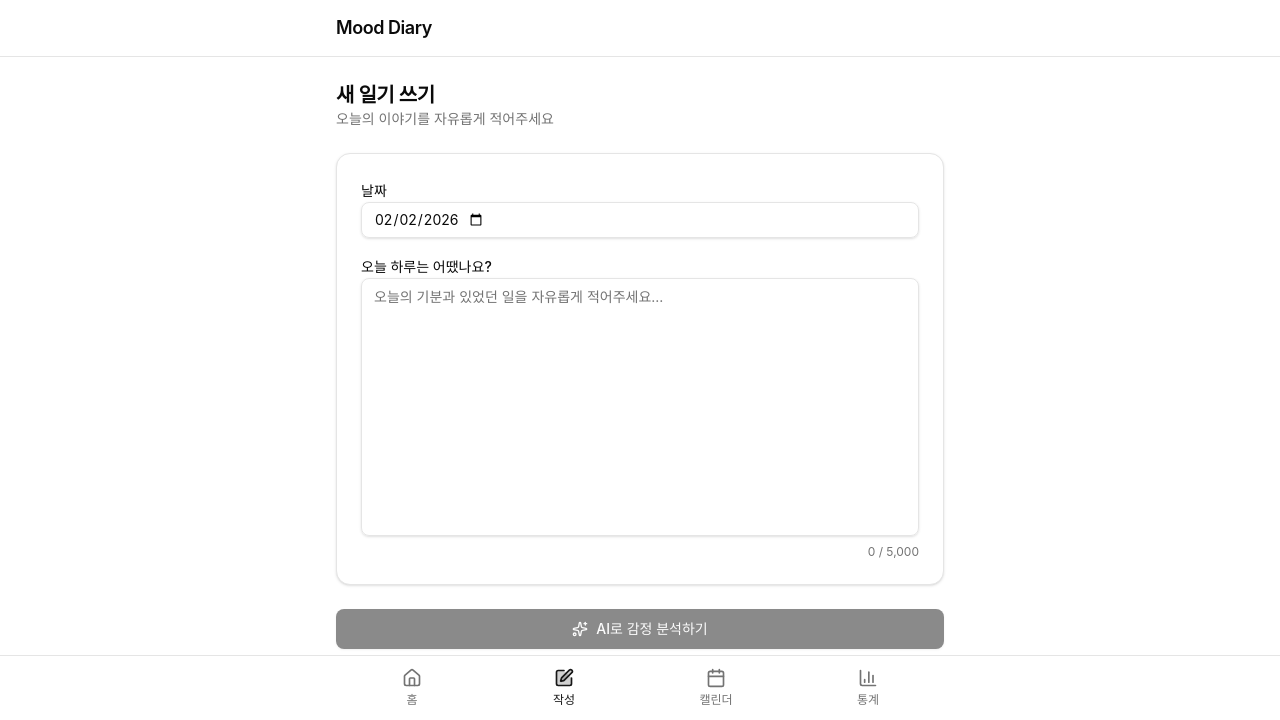
Test: WritePage (TC-001, TC-003) › TC-003: AI 감정 분류 › TC-003-2: 분류 결과 표시 › 분류 실패 시 neutral로 기본 설정된다
Type "테스트 내용" into the text box.
click(640, 407); type("테스트 내용")  # box [361,278,919,536]
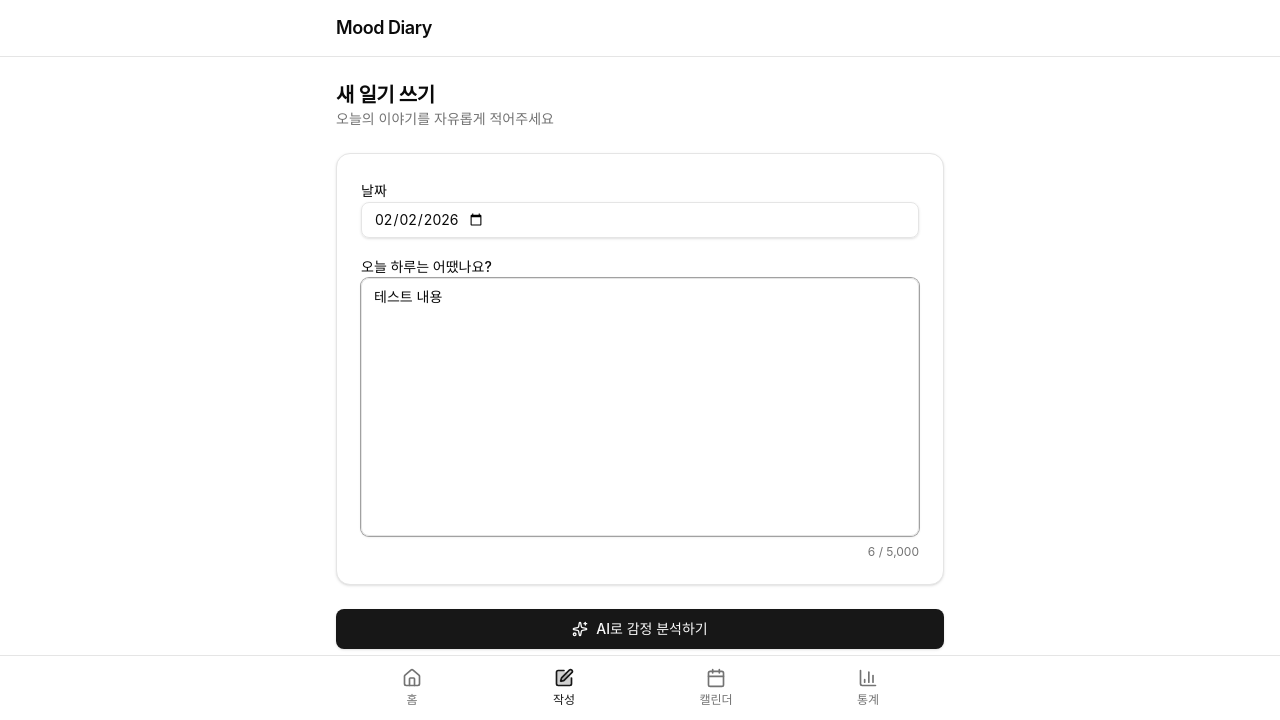
Click the button "AI로 감정 분석하기".
click(640, 629)  # box [336,609,944,649]
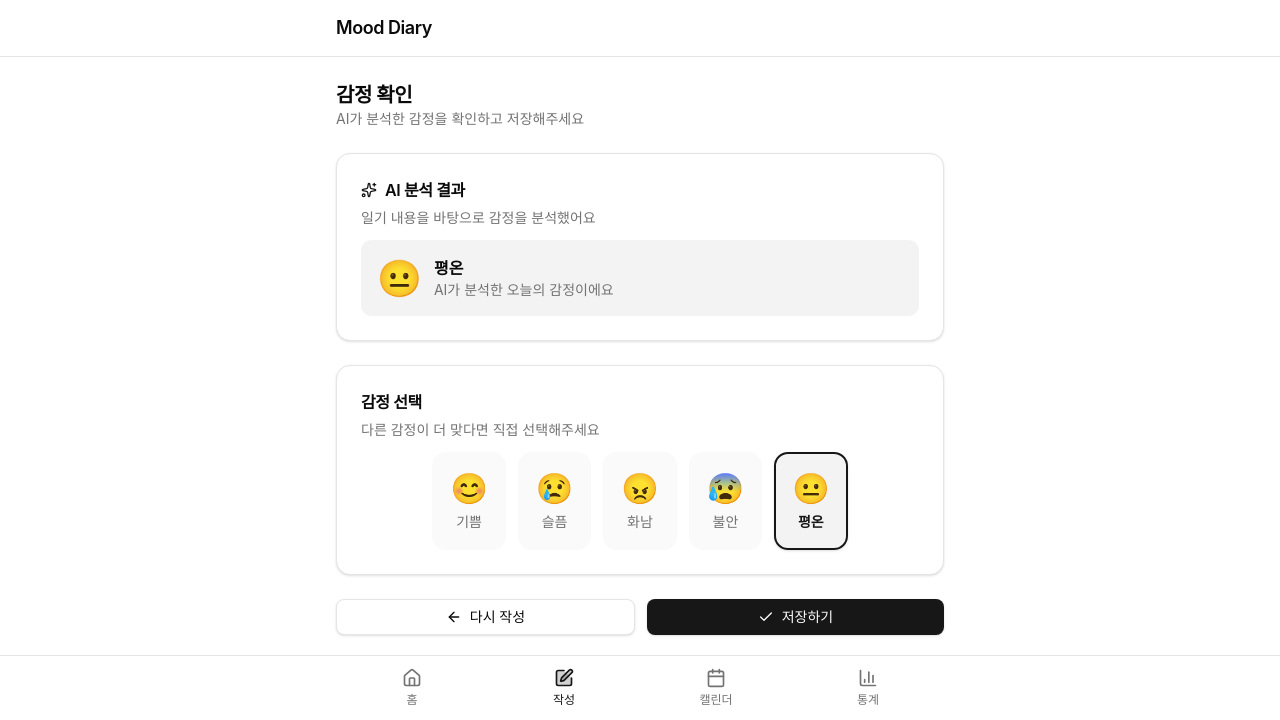
Now the heading "감정 확인" is shown, box [336,83,412,107]
